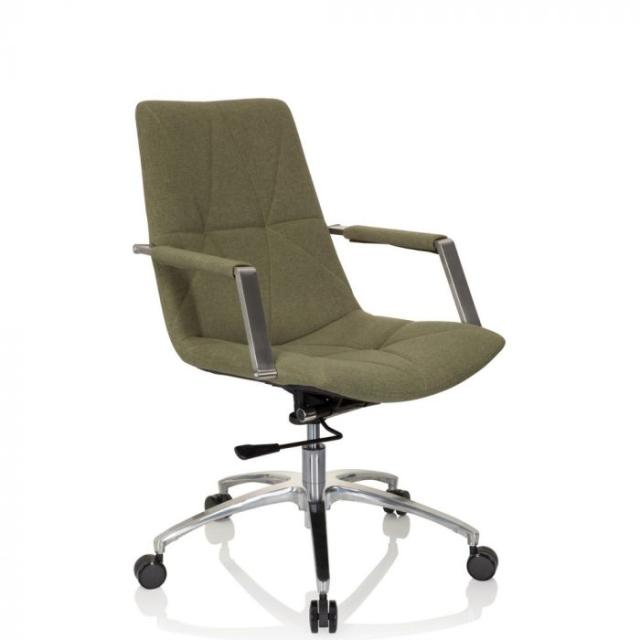chair: (130, 96, 506, 634)
